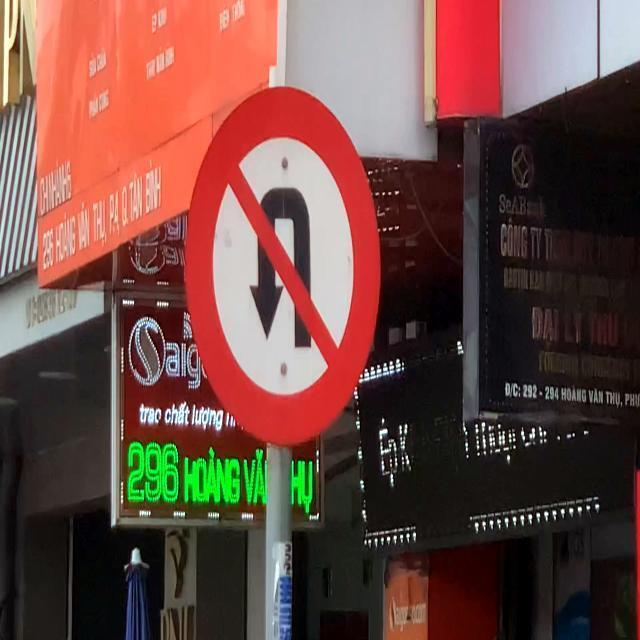124a-cam-quay-dau-xe: (180, 85, 380, 443)
